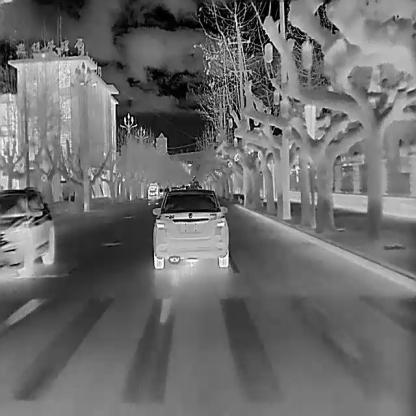car: (152, 188, 228, 267), (0, 183, 53, 273), (147, 181, 158, 199)
